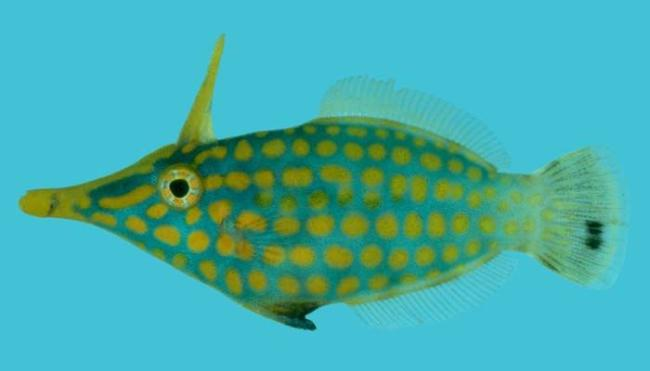fish: (19, 33, 628, 332)
